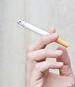smoke: (16, 19, 69, 48)
